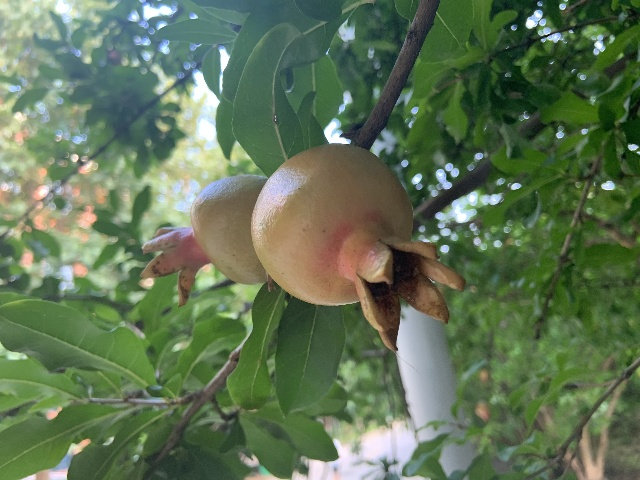mid-growth: (251, 143, 466, 351), (138, 174, 270, 306)
